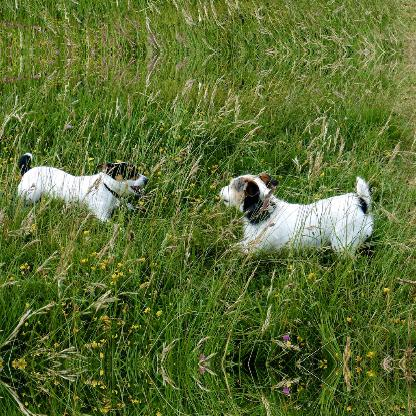Dog: (217, 172, 375, 262), (17, 152, 147, 222)
